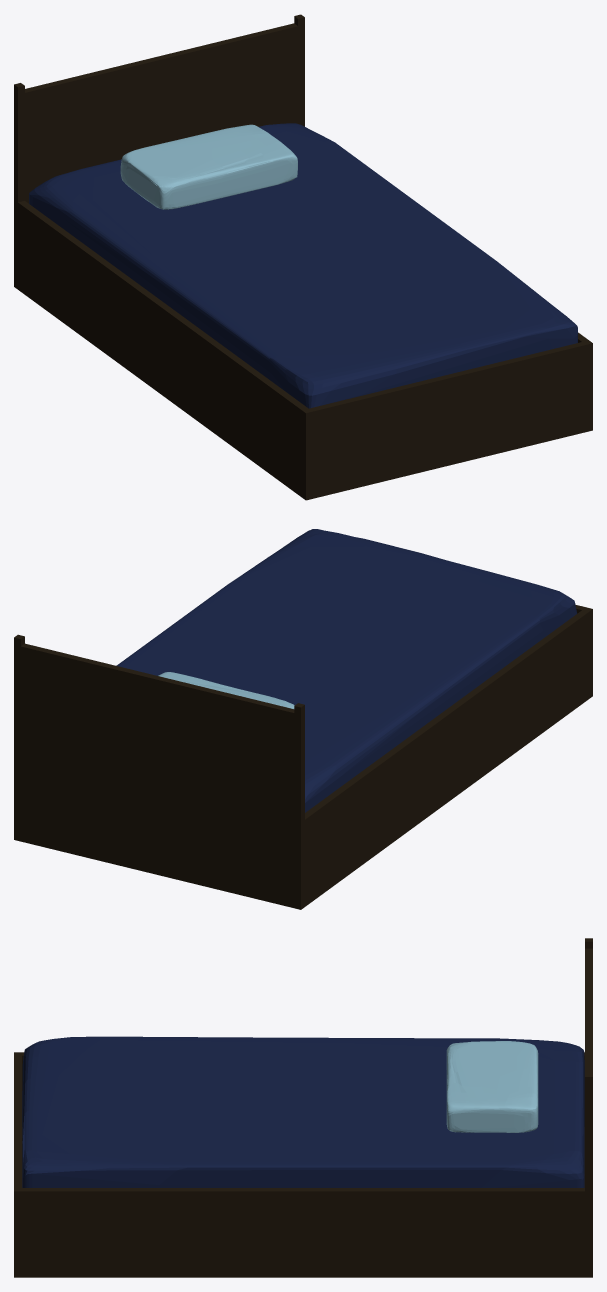
File: mdl_bed.glb
3 renders of one model, top to bottom at view 1: azimuth 30°, elevation 25°; view 2: azimuth 150°, elevation 25°; view 3: azimuth 270°, elevation 25°, orthographic.
Parts seen in each view (by area): view 1: Cube, Cube.002, Cube.001; view 2: Cube, Cube.002, Cube.001; view 3: Cube.002, Cube, Cube.001.
Part boxes in pixels (bbox=[...]): Cube: bbox=[14, 14, 592, 500]; Cube.002: bbox=[29, 123, 577, 408]; Cube.001: bbox=[120, 124, 297, 209]; Cube: bbox=[14, 604, 592, 909]; Cube.002: bbox=[116, 529, 577, 812]; Cube.001: bbox=[158, 672, 294, 708]; Cube.002: bbox=[22, 1036, 584, 1187]; Cube: bbox=[14, 938, 592, 1277]; Cube.001: bbox=[446, 1041, 538, 1132].
Size of the model in its own units: 4.18 by 2.81 by 7.36.
